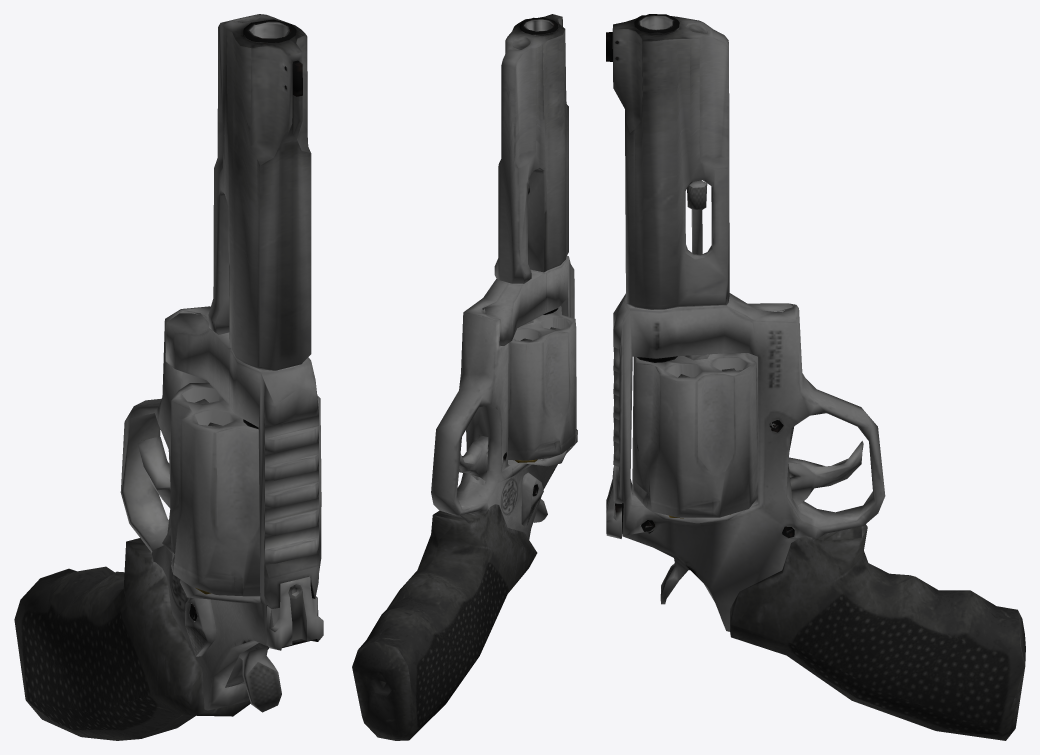
The model's file is Revolver.fbx.
3 renders of one model, left to right at view 1: azimuth 30°, elevation 25°; view 2: azimuth 150°, elevation 25°; view 3: azimuth 270°, elevation 25°, orthographic. The views are drawn at different scales.
Visible parts, largest first — view 1: Revolver; view 2: Revolver; view 3: Revolver.
Boxes of the visible parts, left/top/right/bottom form: Revolver: left=14, top=14, right=323, bottom=740; Revolver: left=352, top=14, right=577, bottom=740; Revolver: left=606, top=14, right=1025, bottom=740.
Size of the model in its own units: 0.0322 by 0.1969 by 0.105.
